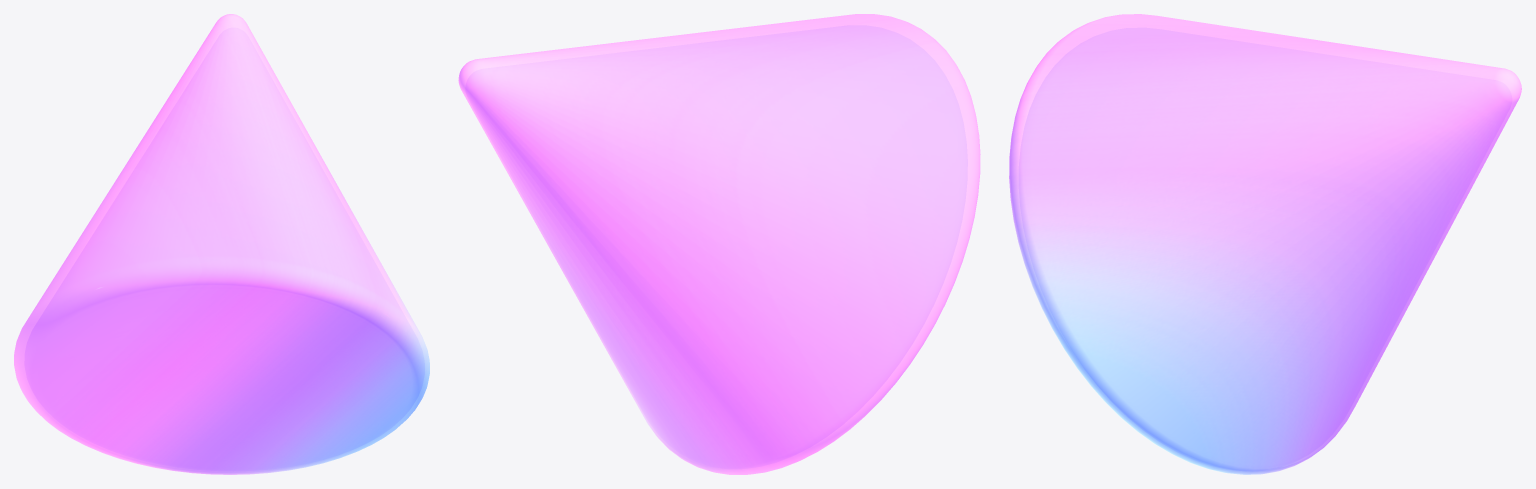
The picture shows the model from 3 angles, left to right: view 1: azimuth 30°, elevation 25°; view 2: azimuth 150°, elevation 25°; view 3: azimuth 270°, elevation 25°; orthographic projection. The views are drawn at different scales.
Parts seen in each view (by area): view 1: Cone; view 2: Cone; view 3: Cone.
Part boxes in pixels (x1,y1,x2,y2): Cone: (14,14,429,474); Cone: (458,14,980,474); Cone: (1009,14,1521,474).
Size of the model in its own units: 1.84 by 1.99 by 2.11.
Materials: 2 (2 with a texture image).
